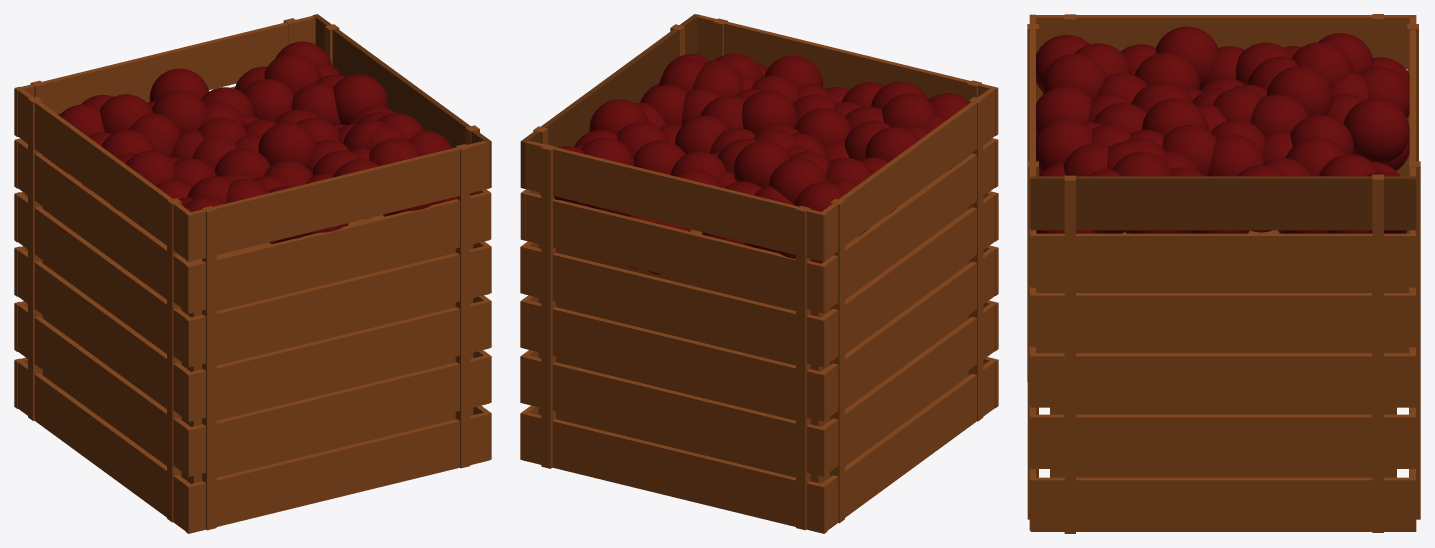
Rendered from SM_FruitBox1.fbx.
3 renders of one model, left to right at view 1: azimuth 30°, elevation 25°; view 2: azimuth 150°, elevation 25°; view 3: azimuth 270°, elevation 25°, orthographic. The views are drawn at different scales.
Parts seen in each view (by area): view 1: Fruits; view 2: Fruits; view 3: Fruits.
Boxes of the visible parts, x1,y1,x2,y2 form: Fruits: [14, 14, 491, 533]; Fruits: [520, 14, 998, 533]; Fruits: [1027, 14, 1420, 533].
Bounding box in the file's own units: 12.46 × 12.54 × 12.41.
